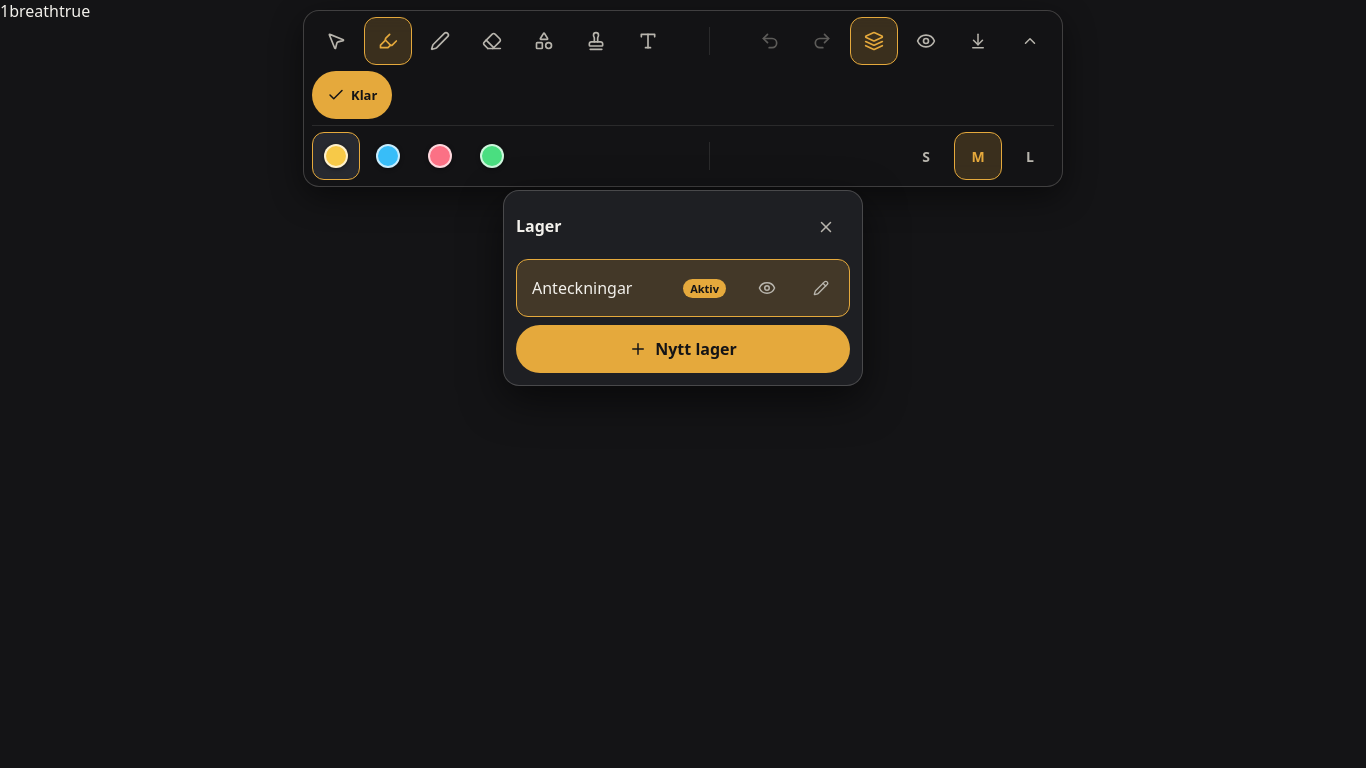
Test: AnnotationToolbar, StampPalette, and useAnnotationSession › supports layer creation, stamp selection, undo/redo, and show/hide toggle
The image size is (1366, 768).
Earlier steps of the test are not shown.
Click the button "Nytt lager": x=683, y=349 [516,325,850,373]
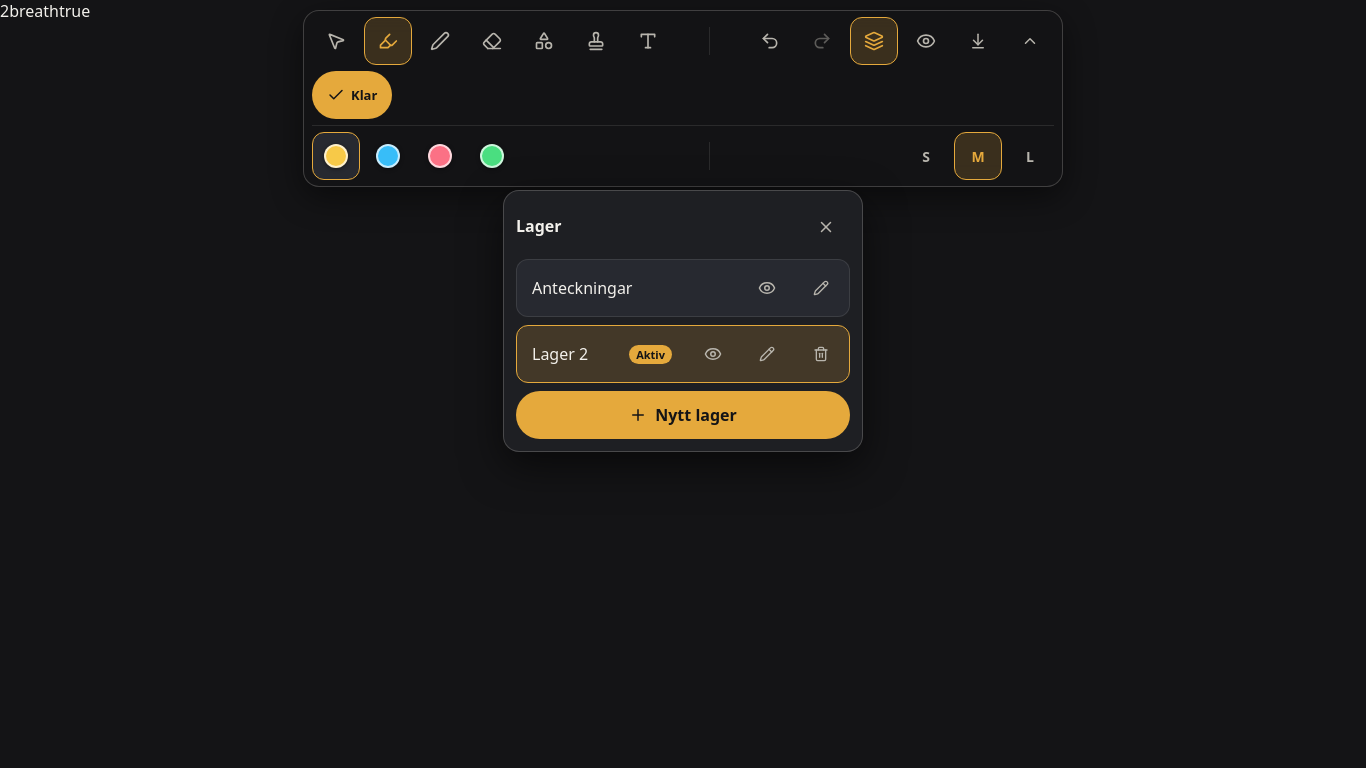
Expected: the text with test id "layer-count" reads "2", [0,0,9,22]
Undo layer add, then redo
Click the button named "Ångra": x=770, y=41 [746,17,794,65]
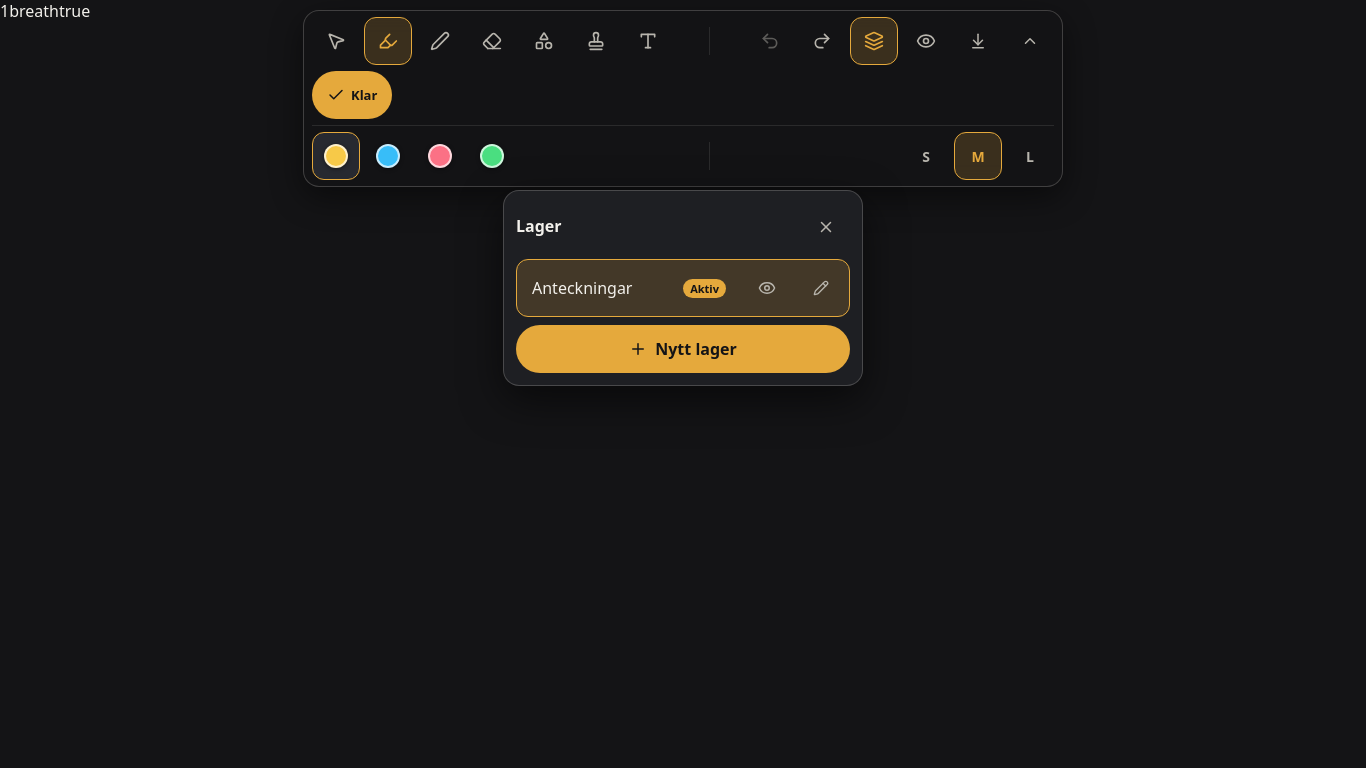
Expected: the text with test id "layer-count" reads "1", [0,0,9,22]
Click the button named "Gör om": x=822, y=41 [798,17,846,65]
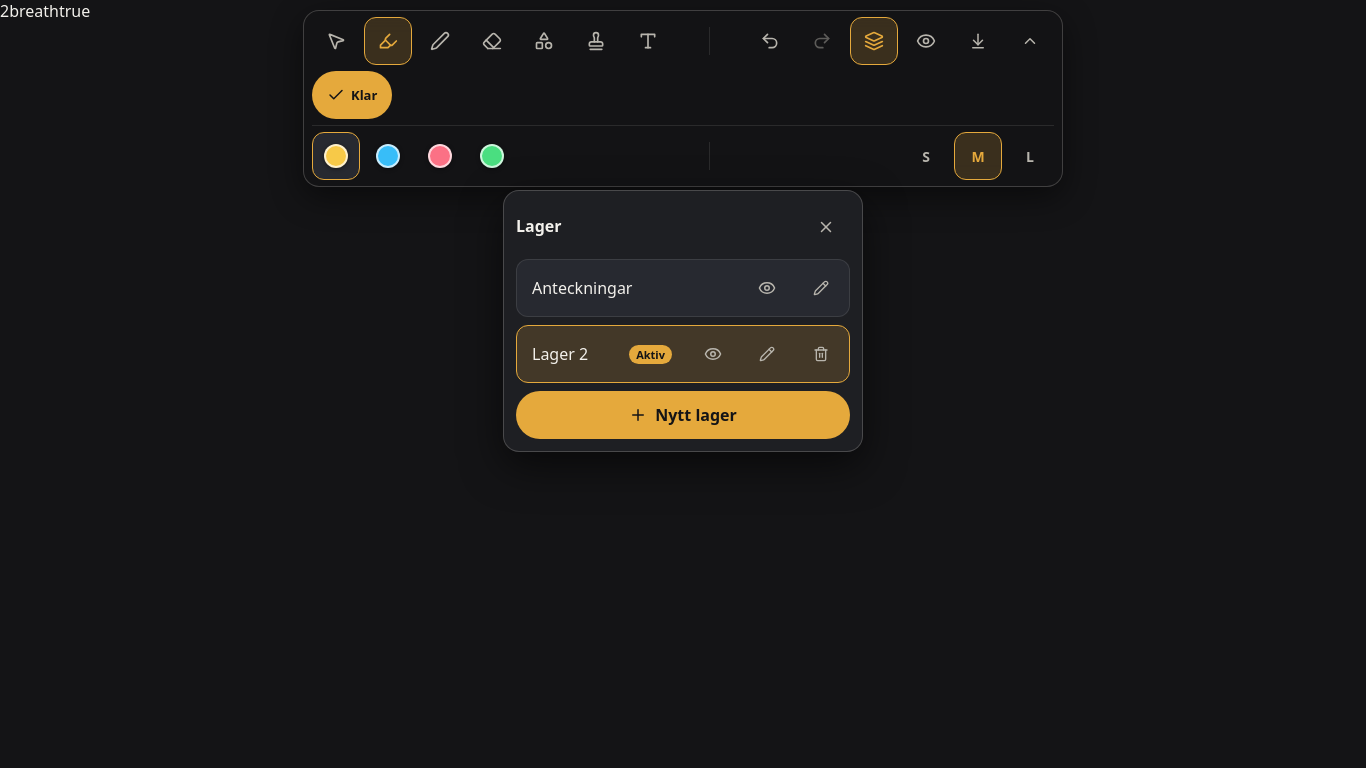
Expected: the text with test id "layer-count" reads "2", [0,0,9,22]
Toggle visibility of all annotations
Click the button named "Dölj anteckningar": x=926, y=41 [902,17,950,65]
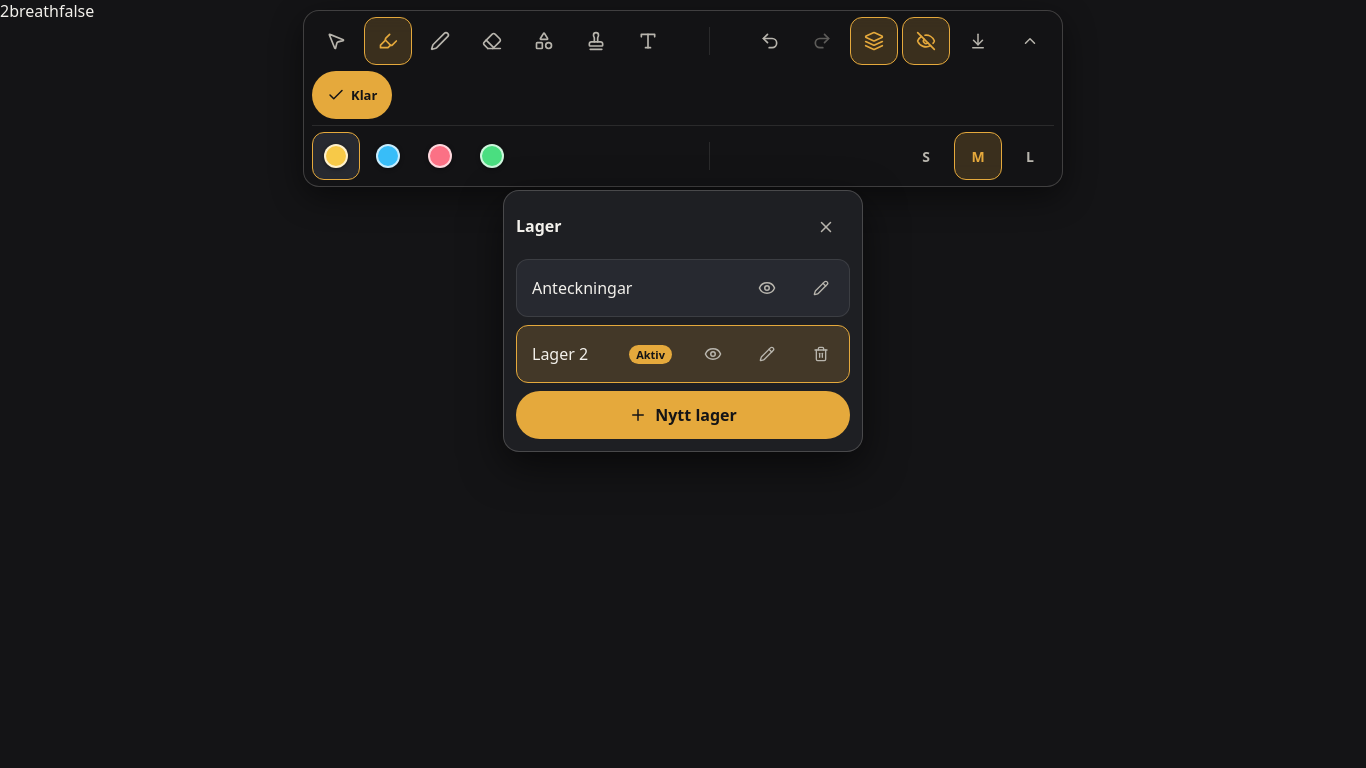
Expected: the text with test id "show-all" reads "false", [59,0,94,22]
Open stamp palette and pick "Se dirigenten"
Click the button named "Stämplar": x=596, y=41 [572,17,620,65]
(page scrolled)
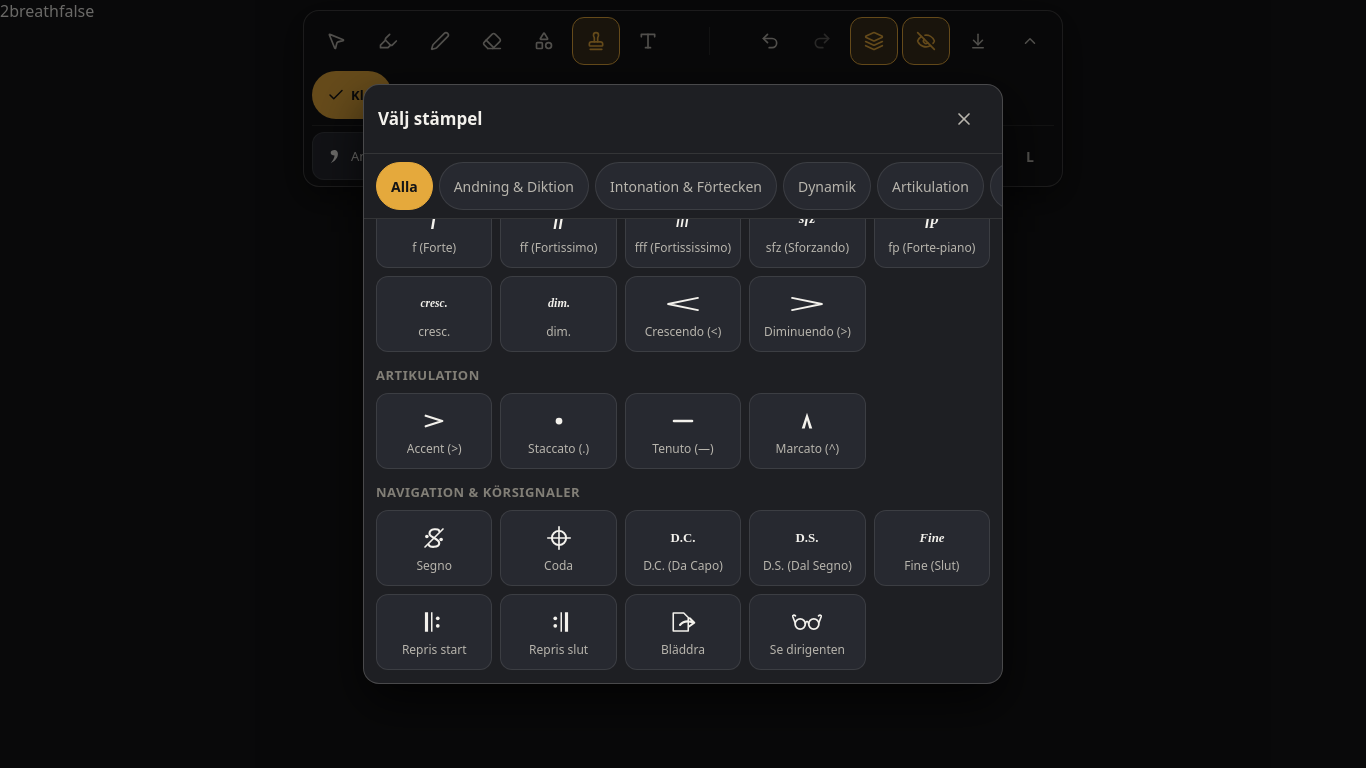
Click the button labelled "Se dirigenten": x=807, y=632 [749,594,866,670]
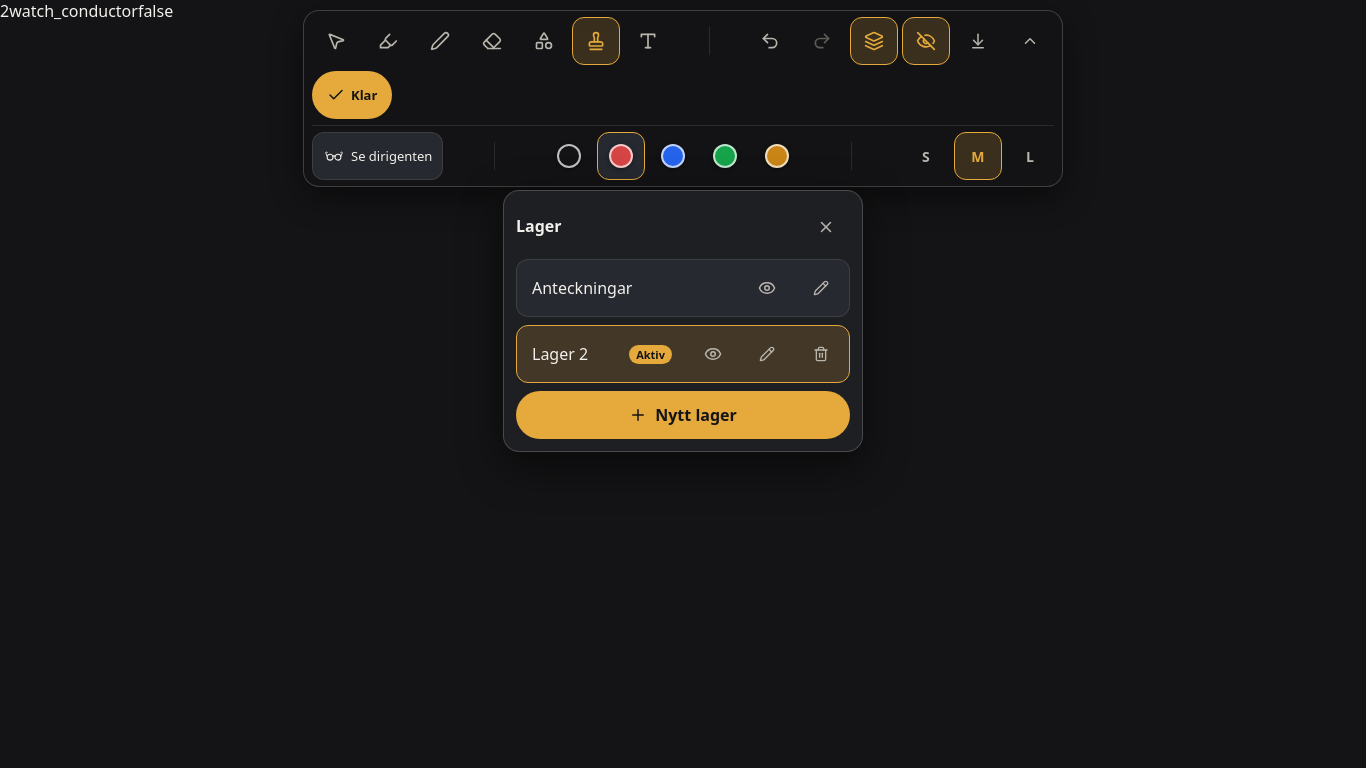
Expected: the text with test id "active-stamp" reads "watch_conductor", [9,0,138,22]
